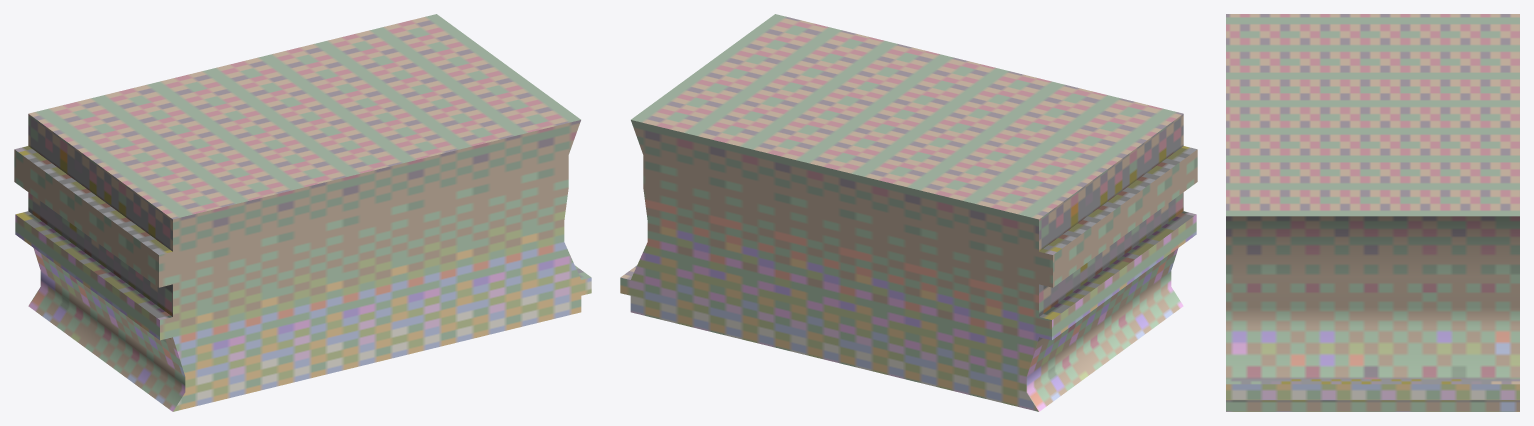
Rendered from Pila_Hojas_Chico.fbx.
3 renders of one model, left to right at view 1: azimuth 30°, elevation 25°; view 2: azimuth 150°, elevation 25°; view 3: azimuth 270°, elevation 25°, orthographic.
Visible parts, largest first — view 1: pCube21; view 2: pCube21; view 3: pCube21.
Boxes of the visible parts, <box> form: pCube21: <box>14,14,591,411</box>; pCube21: <box>620,14,1197,411</box>; pCube21: <box>1226,14,1519,411</box>.
Bounding box in the file's own units: 1.98 × 0.8416 × 1.15.
